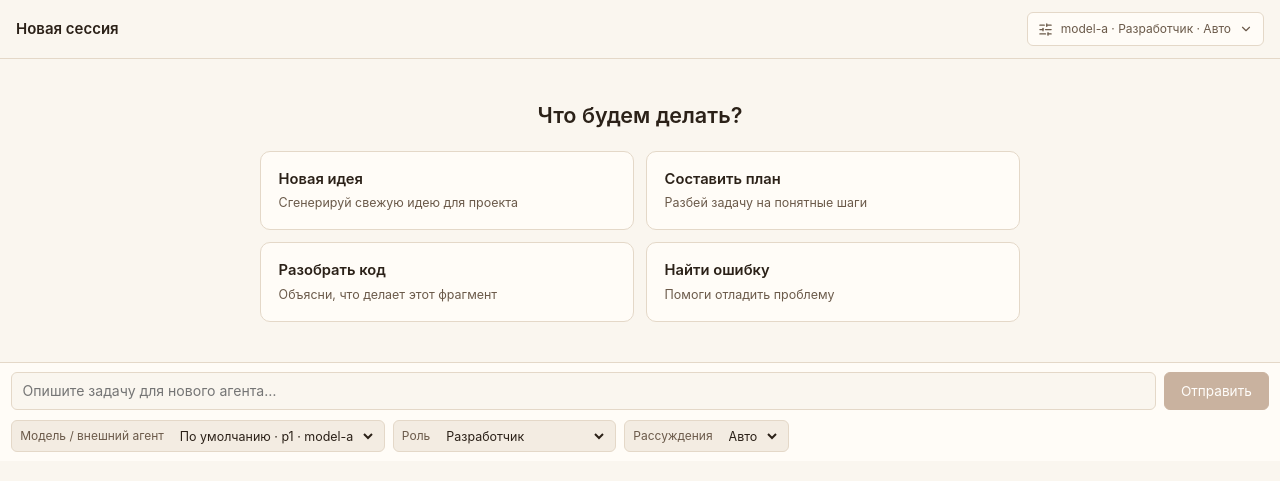
Test: HomeView Lifetime Invariants › restores the draft if current navigation rejects
In the text box with test id "composer-input": (584, 391) [11,372,1156,410], type "retry prompt"
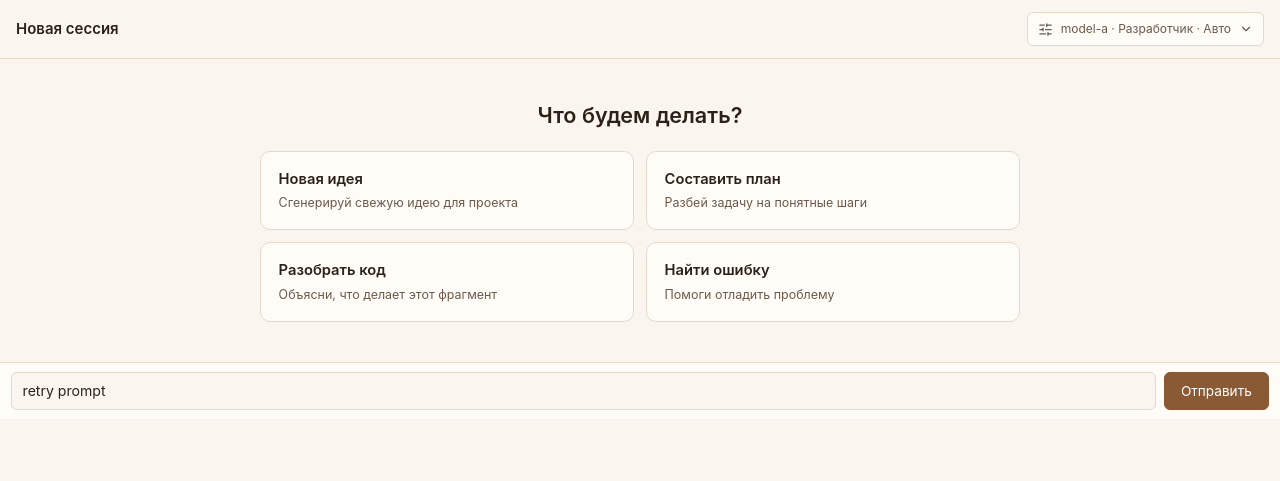
Press Enter in the text box with test id "composer-input", box [11,372,1156,410]
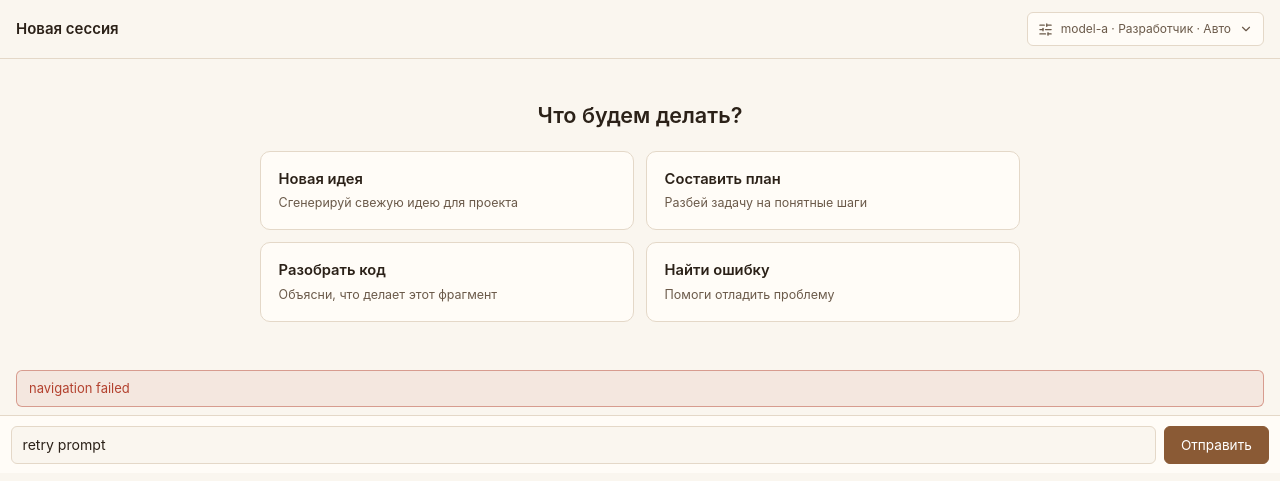
Now the text with test id "home-error" reads "navigation failed", box [29,380,130,396]
